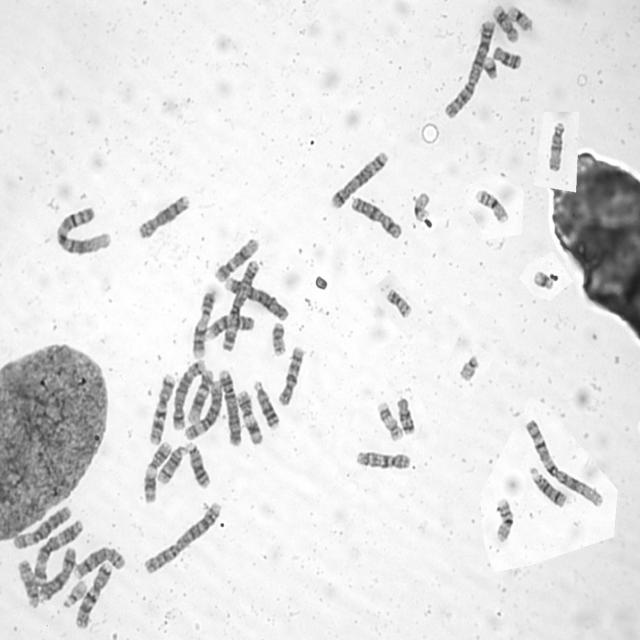A1: (522, 415, 605, 509), (53, 205, 114, 255)
A2: (141, 498, 223, 576), (442, 16, 498, 121)
A3: (219, 256, 261, 354), (31, 517, 84, 582)
B4: (223, 274, 290, 321), (217, 366, 243, 447)
B5: (328, 147, 390, 210), (170, 356, 208, 430)
C10: (276, 342, 306, 407), (354, 448, 412, 471)
C11: (141, 440, 172, 504), (234, 387, 264, 446)
C12: (212, 234, 261, 284), (184, 367, 214, 425)
C6: (10, 502, 72, 550), (182, 376, 223, 442)
C7: (72, 560, 113, 631), (146, 371, 176, 446)
C8: (136, 192, 192, 240), (72, 544, 128, 581)
C9: (190, 288, 218, 360), (202, 311, 255, 342)
D13: (251, 377, 280, 431), (185, 440, 212, 490)
D14: (527, 463, 568, 508), (156, 443, 188, 484)
D15: (16, 558, 40, 609), (546, 119, 566, 172)
E16: (474, 186, 510, 225), (493, 496, 515, 544)
E17: (374, 399, 404, 443), (491, 4, 519, 44)
E18: (395, 394, 416, 436), (491, 43, 522, 70)
F19: (506, 4, 534, 32), (412, 189, 431, 222)
F20: (384, 285, 413, 319), (269, 319, 287, 357)
G21: (532, 268, 555, 291), (481, 54, 498, 81)
G22: (61, 578, 89, 608), (457, 351, 480, 382)
X: (348, 193, 404, 240), (36, 545, 78, 602)
